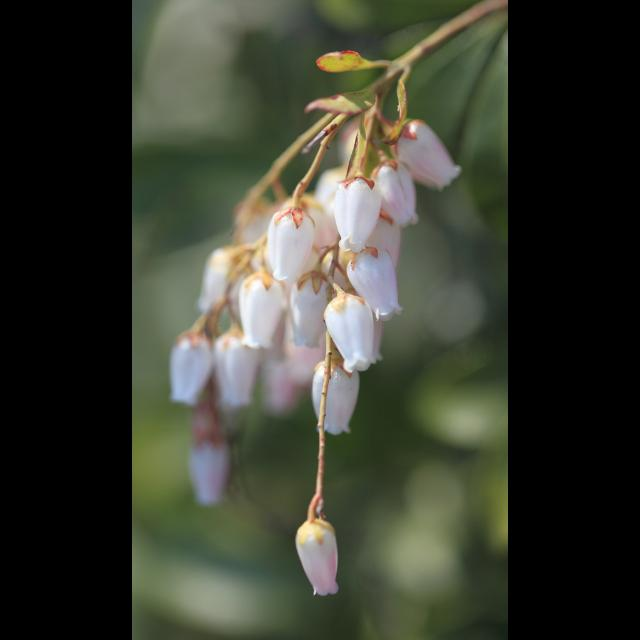Flower: (165, 124, 465, 500), (289, 507, 343, 601)
